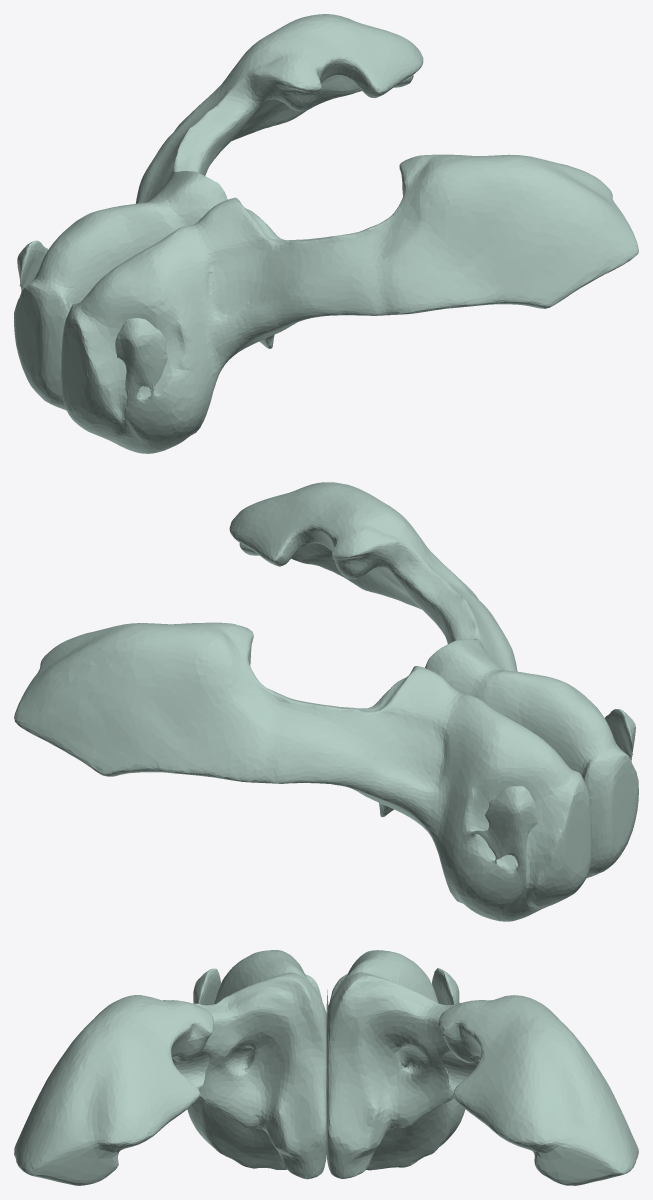
3 renders of one model, top to bottom at view 1: azimuth 30°, elevation 25°; view 2: azimuth 150°, elevation 25°; view 3: azimuth 270°, elevation 25°, orthographic. The views are drawn at different scales.
Visible parts, largest first — view 1: 698.obj; view 2: 698.obj; view 3: 698.obj.
Boxes of the visible parts, x1=… form: 698.obj: x1=14, y1=14, x2=638, y2=453; 698.obj: x1=14, y1=482, x2=638, y2=921; 698.obj: x1=14, y1=950, x2=638, y2=1185.
Bounding box in the file's own units: 9003 × 4991 × 9438.
